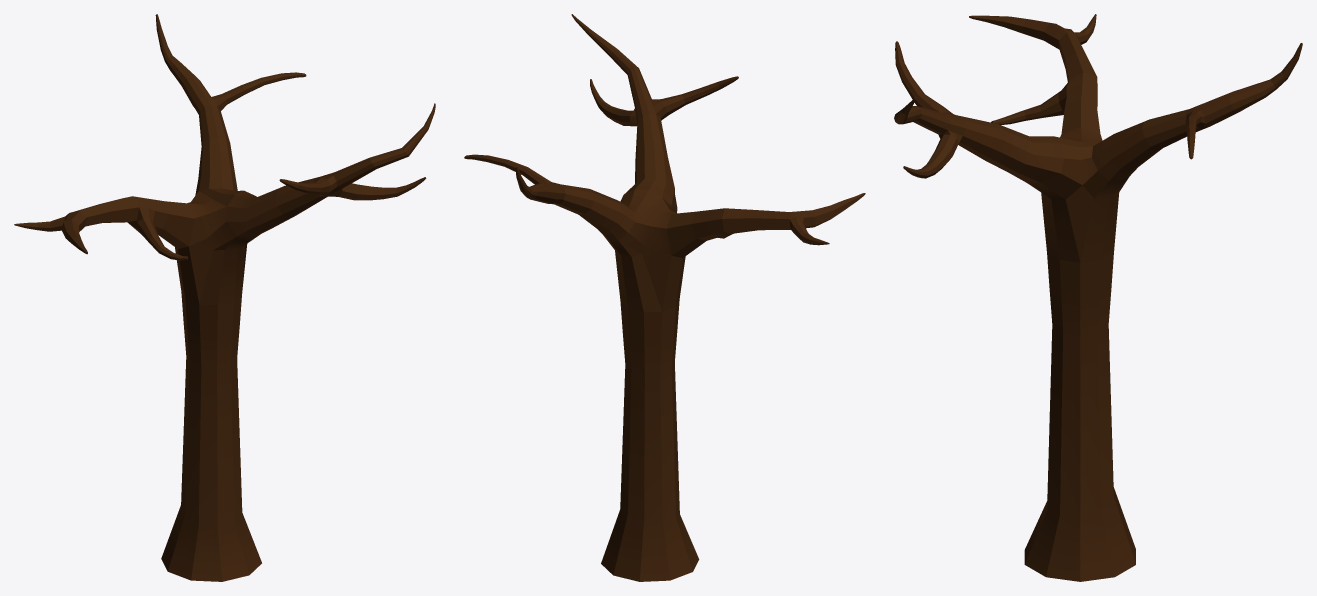
File: Tree01.fbx
The picture shows the model from 3 angles, left to right: view 1: azimuth 30°, elevation 25°; view 2: azimuth 150°, elevation 25°; view 3: azimuth 270°, elevation 25°; orthographic projection. The views are drawn at different scales.
Parts seen in each view (by area): view 1: pCylinder21; view 2: pCylinder21; view 3: pCylinder21.
Boxes of the visible parts, x1,y1,x2,y2 form: pCylinder21: [14, 14, 435, 581]; pCylinder21: [464, 14, 865, 581]; pCylinder21: [894, 14, 1302, 581].
Bounding box in the file's own units: 3.43 × 4.52 × 3.07.
